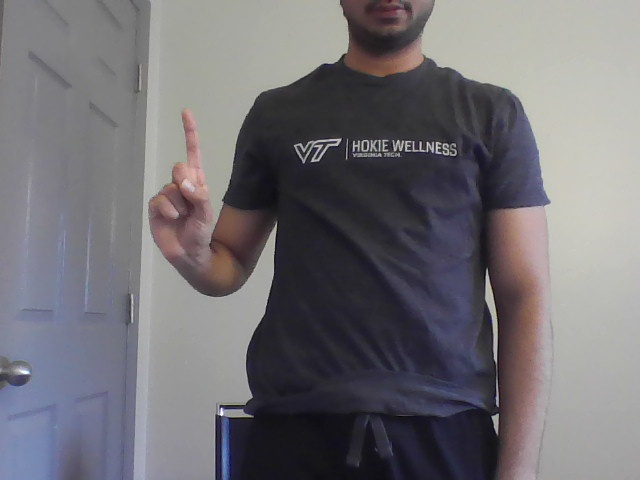one: (146, 105, 220, 255)
